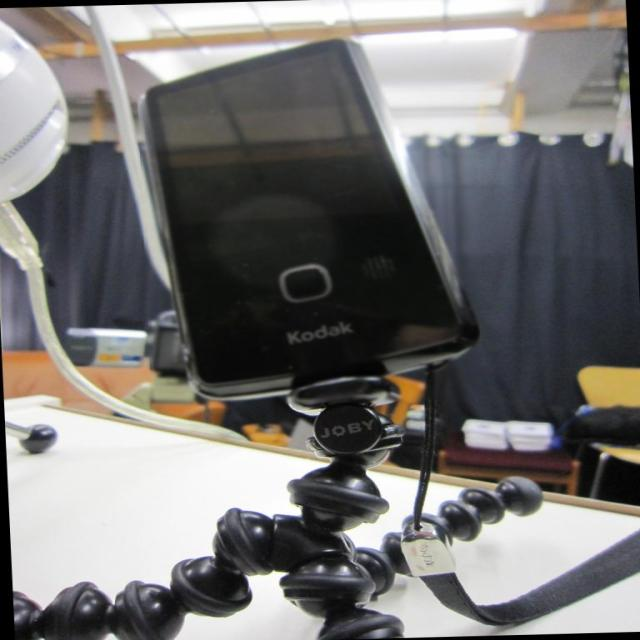handphone: (157, 44, 459, 395)
